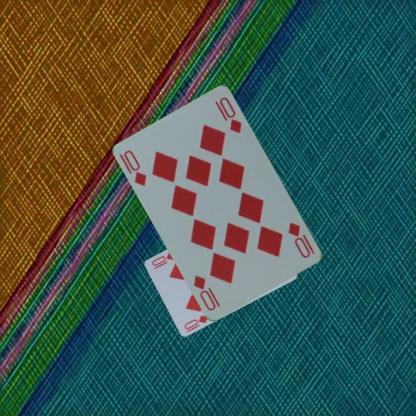10d: (286, 219, 316, 260), (118, 147, 148, 188), (182, 312, 209, 330)
